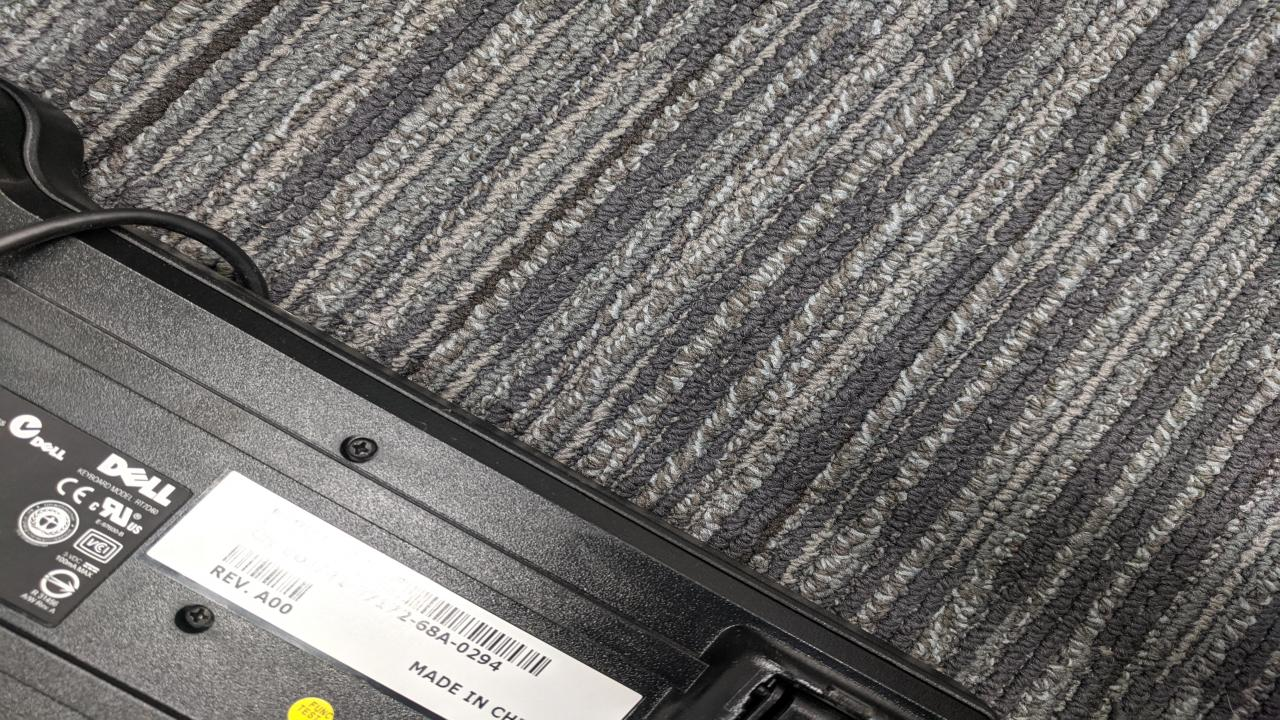CRS: (178, 601, 222, 629), (344, 435, 379, 460)
